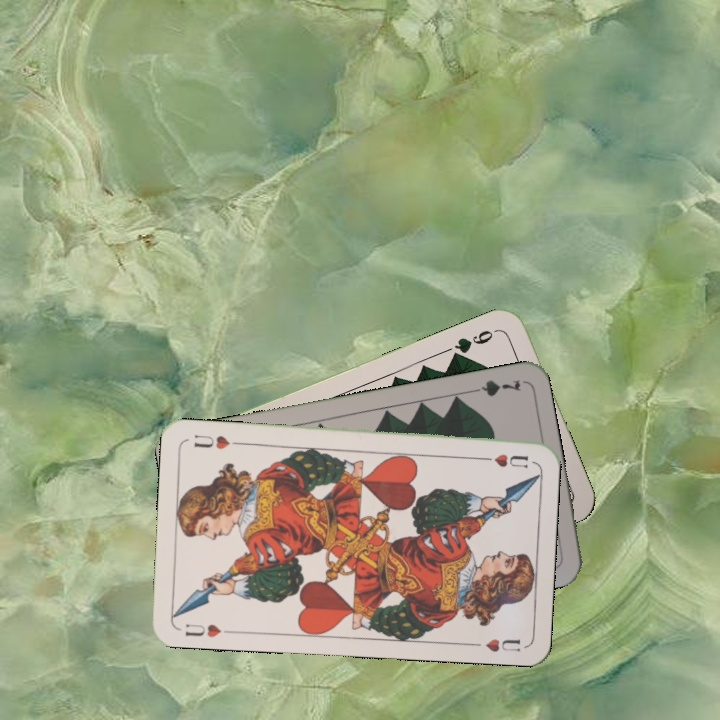G7: (464, 375, 523, 399)
G9: (448, 324, 501, 361)
HU: (475, 450, 531, 470), (181, 619, 224, 640)
